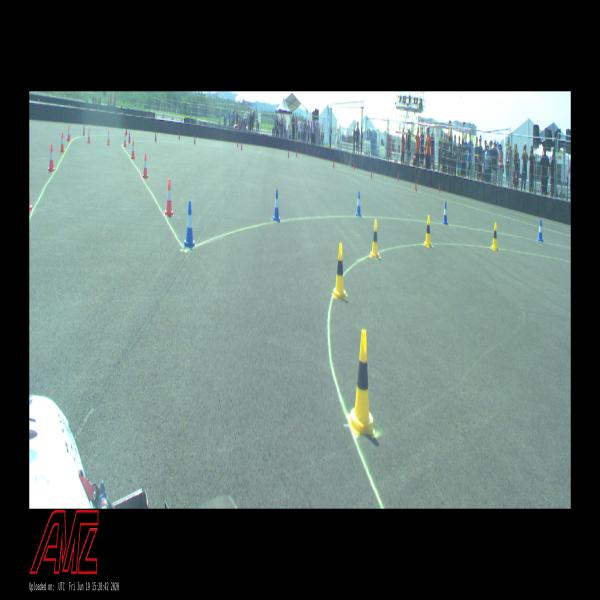blue_cone: (184, 201, 195, 247), (273, 189, 280, 222), (356, 191, 362, 217), (442, 202, 448, 224), (538, 220, 544, 241)
orange_cone: (164, 179, 174, 216), (48, 144, 54, 172), (142, 154, 148, 178), (60, 132, 65, 152), (131, 141, 135, 159), (67, 125, 71, 141), (123, 132, 127, 147), (107, 130, 110, 146), (88, 128, 91, 143), (30, 190, 32, 210)
unknown_cone: (438, 181, 441, 193), (83, 124, 85, 136), (415, 180, 417, 192), (178, 131, 180, 140), (194, 136, 196, 144), (129, 130, 130, 143), (371, 168, 372, 179), (155, 132, 156, 142), (398, 171, 399, 181), (126, 126, 127, 135), (288, 149, 289, 158), (354, 161, 355, 170), (241, 142, 242, 150), (296, 148, 297, 156), (333, 160, 334, 168), (237, 140, 238, 147)
yellow_cone: (350, 329, 373, 434), (333, 243, 346, 299), (371, 219, 379, 259), (424, 215, 432, 247), (491, 222, 498, 250)
